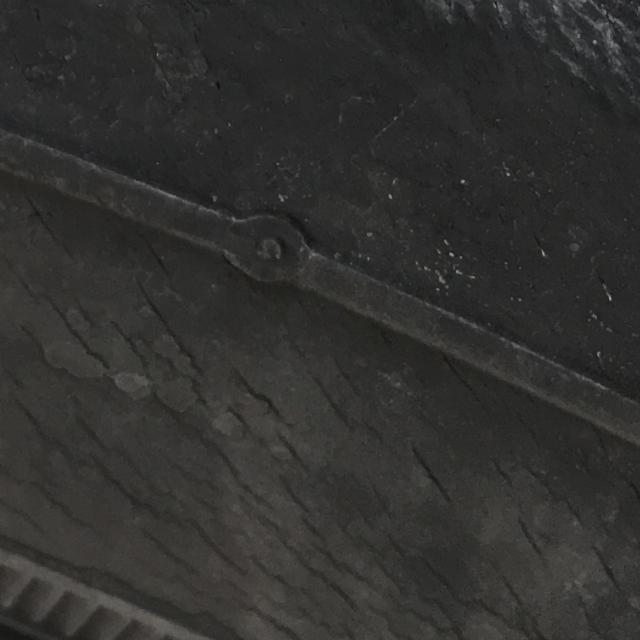Cracks: (0, 144, 639, 639)
